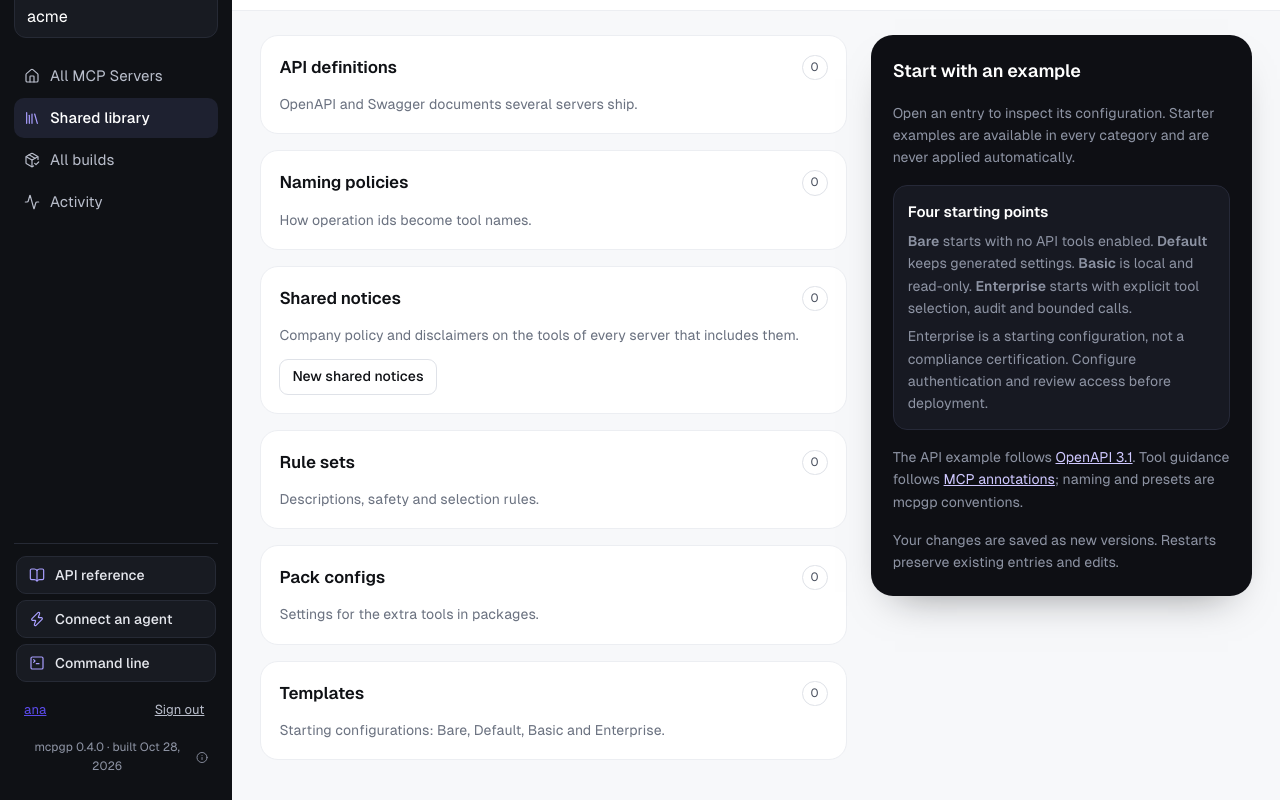
Test case: version and build date › says what was not recorded instead of guessing
(page scrolled)
Click the button "mcpgp 0.4.0 · built Oct 28, 2026" at (116,757), box x1=24 y1=736 x2=208 y2=778
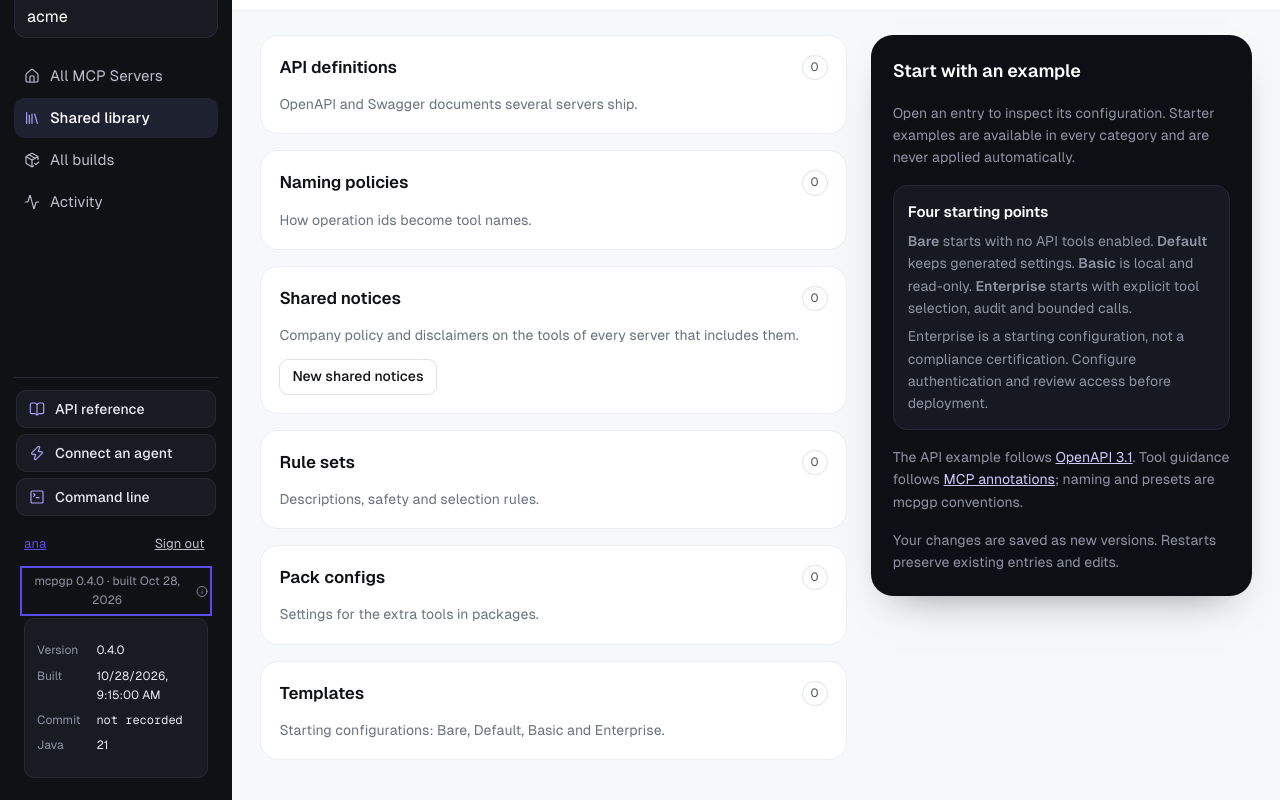
Now the text "not recorded" is shown, box x1=96 y1=711 x2=195 y2=730
